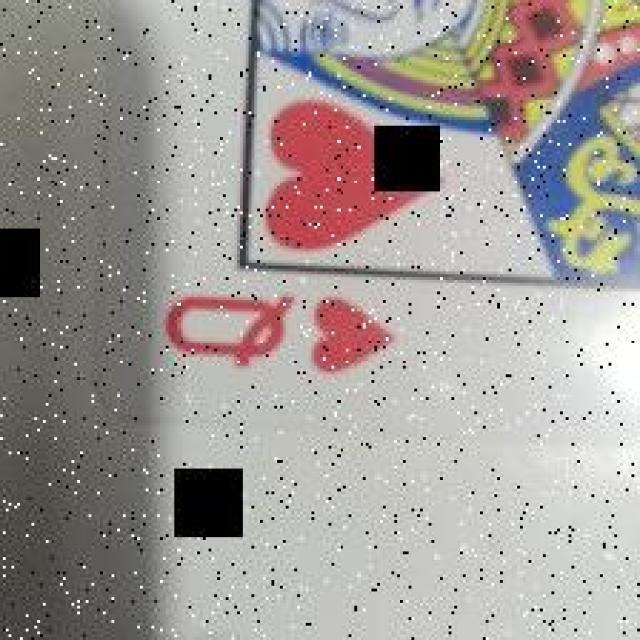Queen of hearts: (61, 2, 640, 402)
